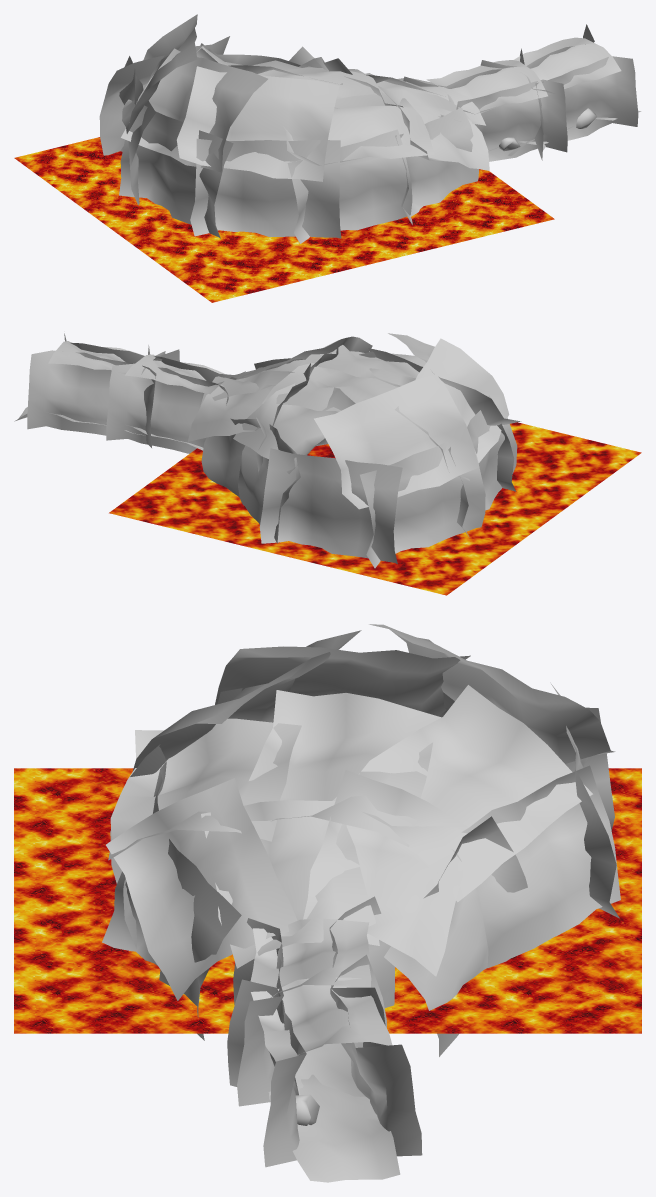
The model's file is VolcanDentro.fbx.
3 renders of one model, top to bottom at view 1: azimuth 30°, elevation 25°; view 2: azimuth 150°, elevation 25°; view 3: azimuth 270°, elevation 25°, orthographic. The views are drawn at different scales.
Visible parts, largest first — view 1: Lava1, ParedPiedra13, ParedPiedra19, ParedPiedra (×2), ParedPiedra14, ParedPiedra12, ParedPiedra1 (×2), ParedPiedra17, ParedPiedra9, ParedPiedra11, ParedPiedra10, ParedPiedra16 (+8 smaller); view 2: Lava1, ParedPiedra2 (×2), ParedPiedra16, ParedPiedra18, ParedPiedra15, ParedPiedra7, ParedPiedra17, ParedPiedra8, ParedPiedra4, ParedPiedra1 (×2), ParedPiedra5, ParedPiedra6 (+7 smaller); view 3: Lava1, ParedPiedra7, ParedPiedra10, ParedPiedra8, ParedPiedra4, ParedPiedra6, ParedPiedra1 (×2), ParedPiedra9, ParedPiedra17, SueloArena (×2), ParedPiedra3, ParedPiedra (×2) (+7 smaller).
Part boxes in pixels (x1,y1,x2,y2): Lava1: (14,137,554,302); ParedPiedra13: (190,138,341,238); ParedPiedra19: (176,66,339,181); ParedPiedra (×2): (456,56,638,161); ParedPiedra14: (119,101,233,238); ParedPiedra12: (287,129,412,243); ParedPiedra1 (×2): (426,37,621,114); ParedPiedra17: (121,48,267,172); ParedPiedra9: (283,94,434,165); ParedPiedra11: (395,107,478,224); ParedPiedra10: (378,86,489,170); ParedPiedra16: (99,36,229,155); Lava1: (109,422,641,595); ParedPiedra2 (×2): (27,350,228,453); ParedPiedra16: (259,448,402,564); ParedPiedra18: (314,374,478,509); ParedPiedra15: (360,441,485,568); ParedPiedra7: (233,381,355,473); ParedPiedra17: (395,338,509,480); ParedPiedra8: (262,363,413,411); ParedPiedra4: (188,363,310,441); ParedPiedra1 (×2): (48,341,245,393); ParedPiedra5: (201,417,266,497); ParedPiedra6: (238,424,300,543); Lava1: (14,768,641,1033); ParedPiedra7: (332,685,592,902); ParedPiedra10: (106,778,297,1000); ParedPiedra8: (249,690,441,847); ParedPiedra4: (303,770,468,976); ParedPiedra6: (452,765,620,967); ParedPiedra1 (×2): (250,918,392,1061); ParedPiedra9: (108,718,301,860); ParedPiedra17: (215,646,470,716); SueloArena (×2): (268,1043,400,1182); ParedPiedra3: (201,800,379,968); ParedPiedra (×2): (227,918,306,1167).
Size of the model in its own units: 254 by 81.31 by 166.
